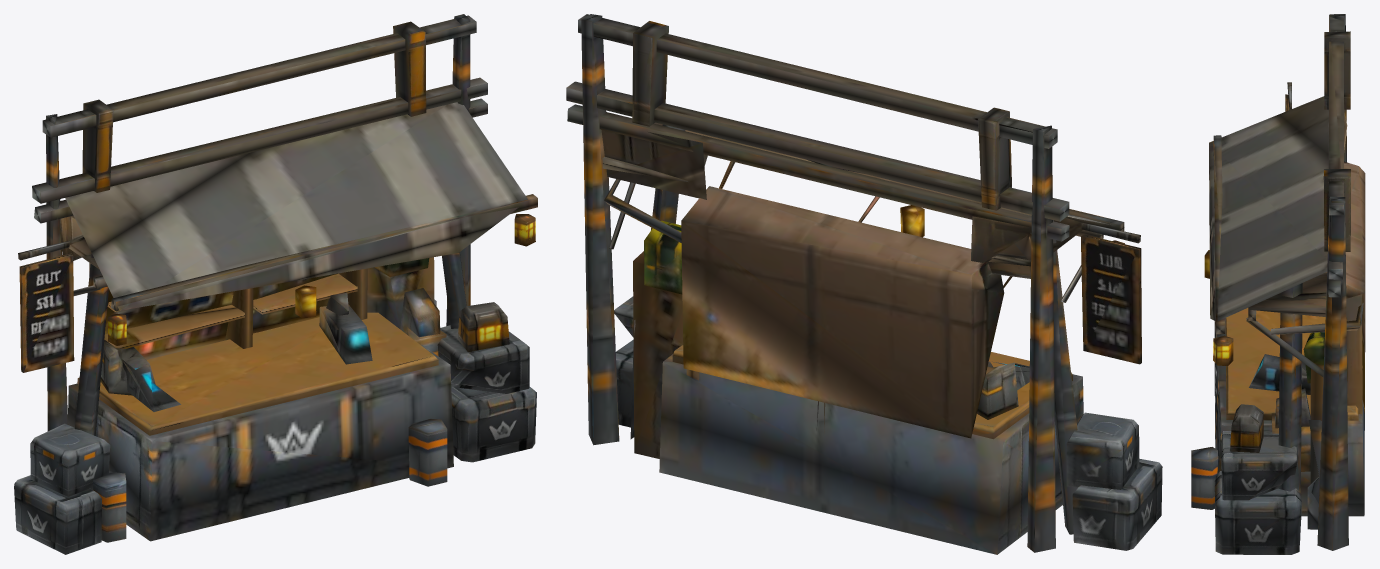
File: chimp-stand.glb
3 views of the same model, side by side, from view 1: azimuth 30°, elevation 25°; view 2: azimuth 150°, elevation 25°; view 3: azimuth 270°, elevation 25° (orthographic). The views are drawn at different scales.
Visible parts, largest first — view 1: geometry_0; view 2: geometry_0; view 3: geometry_0.
Part boxes in pixels (left/top/right/bottom): geometry_0: left=14, top=14, right=537, bottom=554; geometry_0: left=566, top=14, right=1162, bottom=554; geometry_0: left=1191, top=14, right=1365, bottom=554.
Bounding box in the file's own units: 0.9614 × 0.7222 × 0.3228.
Materials: 1 (1 with a texture image).
